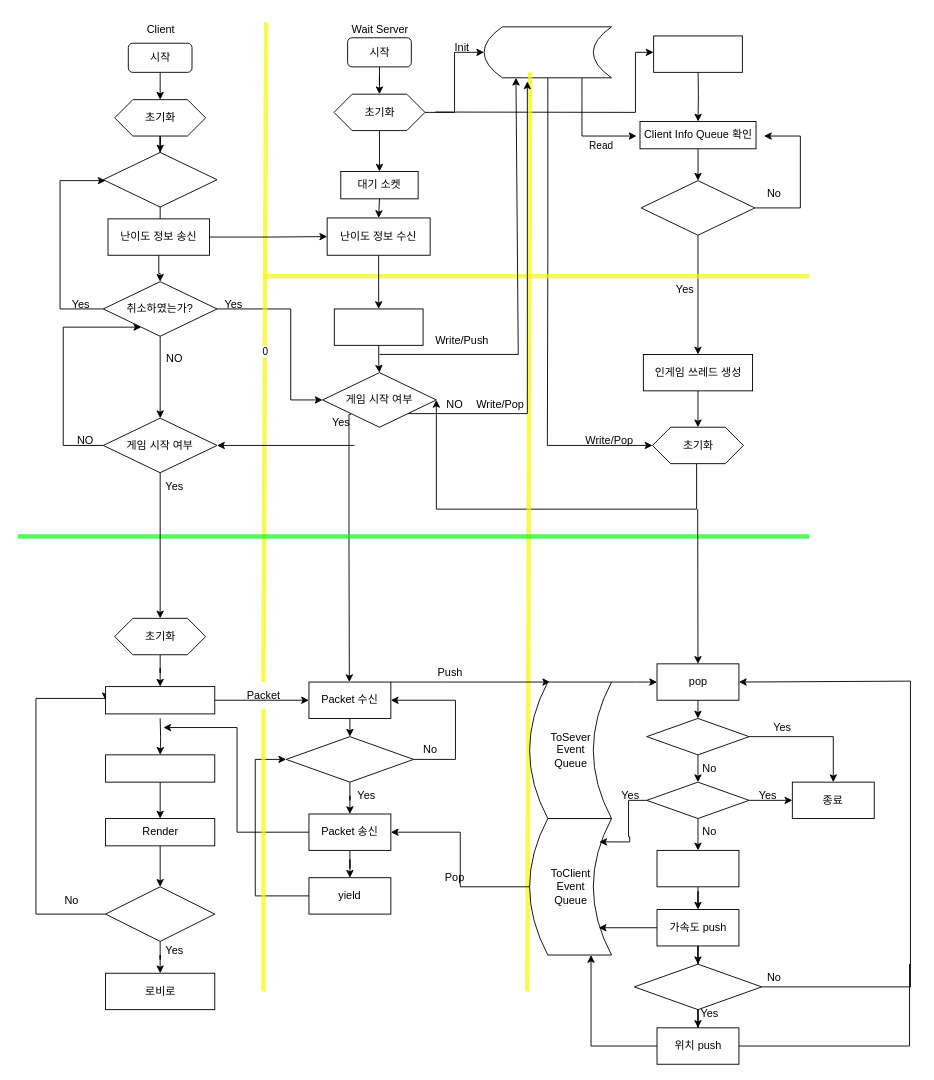
Image size: 934x1080. Some labels were removed from this diagram. The box of each missing label's shape, as (x1, y1, x2, y2) in pixels:
Client Info Queue: (483, 26, 612, 78)
Event: (105, 686, 215, 714)
Update: (105, 754, 215, 782)
대기화면: (102, 152, 217, 207)
로비 쓰레드 생성: (653, 35, 742, 72)
모두 종료?: (646, 718, 749, 755)
보정 TimeOut: (633, 963, 762, 1010)
승리?: (646, 781, 749, 819)
쓰레드 생성: (333, 308, 423, 345)
인원이 다 찼는가: (640, 180, 755, 235)
전송 TimeOut: (285, 736, 414, 782)
죽었는가?: (105, 886, 215, 941)
충돌검사: (656, 849, 739, 887)
